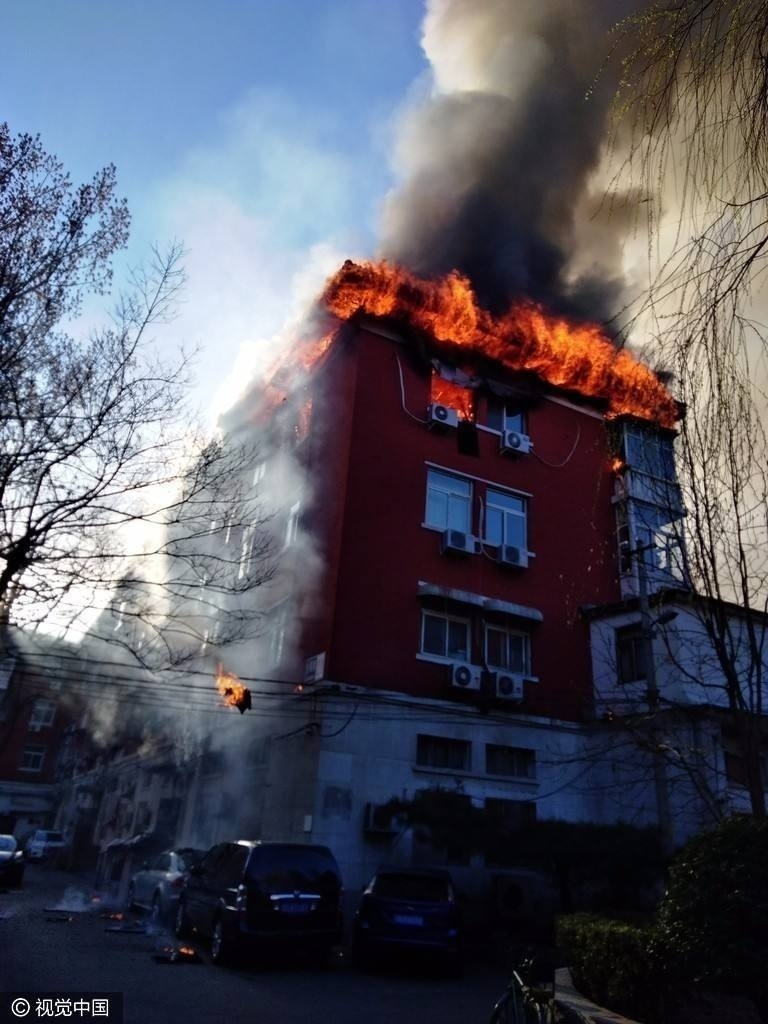fire: (296, 262, 681, 430), (213, 667, 247, 708)
